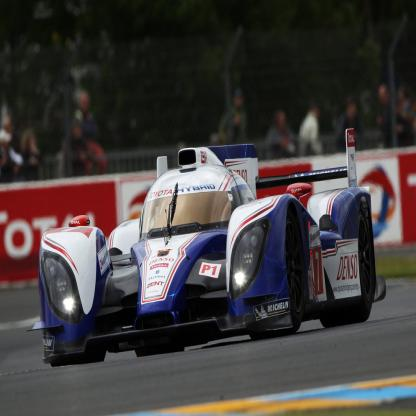Car: (27, 129, 387, 367)
